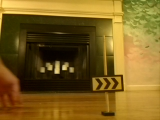right: (91, 76, 123, 91)
